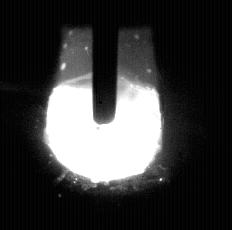arame: (94, 0, 117, 124)
poca: (44, 0, 163, 230)
